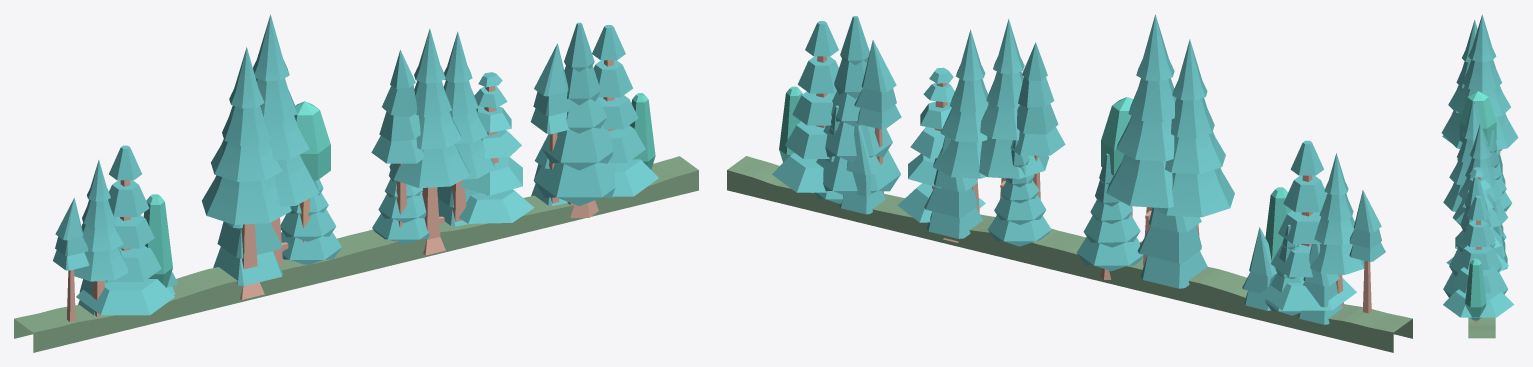
Rendered from backdrop_forest_near.glb.
The picture shows the model from 3 angles, left to right: view 1: azimuth 30°, elevation 25°; view 2: azimuth 150°, elevation 25°; view 3: azimuth 270°, elevation 25°; orthographic projection. The views are drawn at different scales.
Visible parts, largest first — view 1: ForestNear_leafsDark_001, ForestNearLand, ForestNear_leafsDark_003, ForestNear_leafsDark_007, ForestNear_leafsDark_006, ForestNear_leafsDark_004, ForestNear_leafsDark_002, ForestNear_leafsDark, ForestNear_leafsDark_005, ForestNear_woodBarkDark_001, ForestNear_leafsGreen, ForestNear_leafsGreen_001 (+1 smaller); view 2: ForestNear_leafsDark_001, ForestNearLand, ForestNear_leafsDark_002, ForestNear_leafsDark_003, ForestNear_leafsDark_004, ForestNear_leafsDark_007, ForestNear_leafsDark, ForestNear_leafsDark_006, ForestNear_leafsDark_005, ForestNear_leafsGreen, ForestNear_leafsGreen_001, ForestNear_woodBarkDark; view 3: ForestNear_leafsDark_001, ForestNear_leafsDark_003, ForestNear_leafsDark_007, ForestNear_leafsGreen_001, ForestNear_leafsGreen, ForestNear_leafsDark_006, ForestNear_leafsDark_004, ForestNearLand, ForestNear_leafsDark_002, ForestNear_leafsDark_005.
Part boxes in pixels (x1=…): ForestNear_leafsDark_001: x1=74, y1=14, x2=495, y2=281; ForestNearLand: x1=14, y1=156, x2=698, y2=352; ForestNear_leafsDark_003: x1=76, y1=25, x2=658, y2=315; ForestNear_leafsDark_007: x1=533, y1=22, x2=618, y2=206; ForestNear_leafsDark_006: x1=459, y1=72, x2=534, y2=223; ForestNear_leafsDark_004: x1=280, y1=163, x2=429, y2=264; ForestNear_leafsDark_002: x1=78, y1=134, x2=567, y2=315; ForestNear_leafsDark: x1=53, y1=43, x2=570, y2=270; ForestNear_leafsDark_005: x1=371, y1=50, x2=424, y2=163; ForestNear_woodBarkDark_001: x1=91, y1=179, x2=466, y2=316; ForestNear_leafsGreen: x1=143, y1=93, x2=655, y2=287; ForestNear_leafsGreen_001: x1=294, y1=101, x2=330, y2=180; ForestNear_leafsDark_001: x1=933, y1=14, x2=1364, y2=274; ForestNearLand: x1=727, y1=156, x2=1412, y2=352; ForestNear_leafsDark_002: x1=839, y1=125, x2=1342, y2=324; ForestNear_leafsDark_003: x1=772, y1=21, x2=1356, y2=310; ForestNear_leafsDark_004: x1=814, y1=105, x2=1303, y2=315; ForestNear_leafsDark_007: x1=816, y1=16, x2=900, y2=199; ForestNear_leafsDark: x1=854, y1=40, x2=1385, y2=261; ForestNear_leafsDark_006: x1=897, y1=67, x2=985, y2=222; ForestNear_leafsDark_005: x1=1010, y1=42, x2=1065, y2=155; ForestNear_leafsGreen: x1=779, y1=86, x2=1291, y2=275; ForestNear_leafsGreen_001: x1=1101, y1=97, x2=1133, y2=175; ForestNear_woodBarkDark: x1=874, y1=128, x2=1371, y2=313; ForestNear_leafsDark_001: x1=1441, y1=14, x2=1518, y2=226; ForestNear_leafsDark_003: x1=1442, y1=48, x2=1513, y2=317; ForestNear_leafsDark_007: x1=1443, y1=176, x2=1507, y2=297; ForestNear_leafsGreen_001: x1=1459, y1=91, x2=1496, y2=146; ForestNear_leafsGreen: x1=1465, y1=258, x2=1486, y2=320; ForestNear_leafsDark_006: x1=1446, y1=167, x2=1508, y2=272; ForestNear_leafsDark_004: x1=1488, y1=130, x2=1511, y2=246; ForestNearLand: x1=1468, y1=317, x2=1495, y2=338; ForestNear_leafsDark_002: x1=1492, y1=150, x2=1507, y2=270; ForestNear_leafsDark_005: x1=1457, y1=102, x2=1490, y2=161.
Bounding box in the file's own units: 52 × 20.26 × 7.31.
